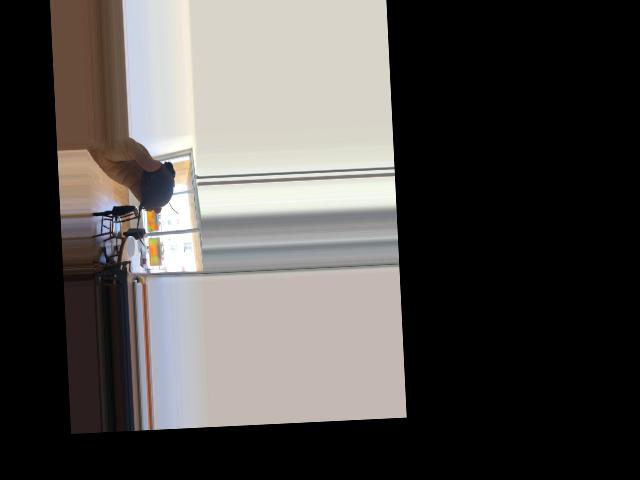beet: (133, 161, 179, 246)
